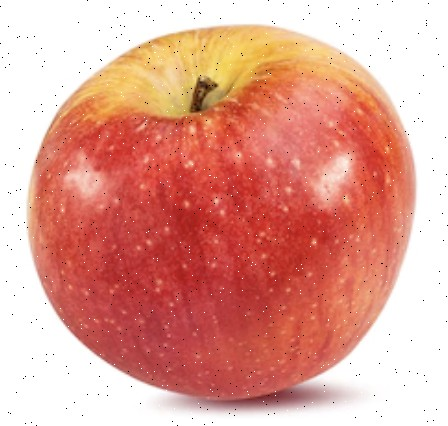normal_apple: (21, 25, 414, 399)
